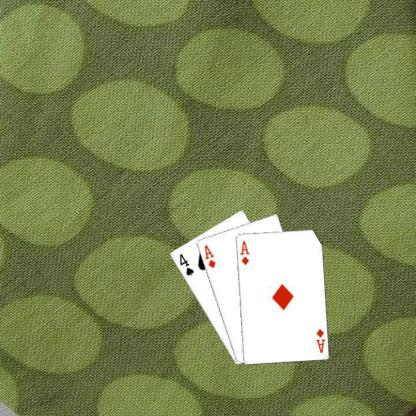4S: (177, 251, 195, 277)
AD: (202, 242, 216, 269), (313, 326, 326, 354), (238, 238, 250, 266)
